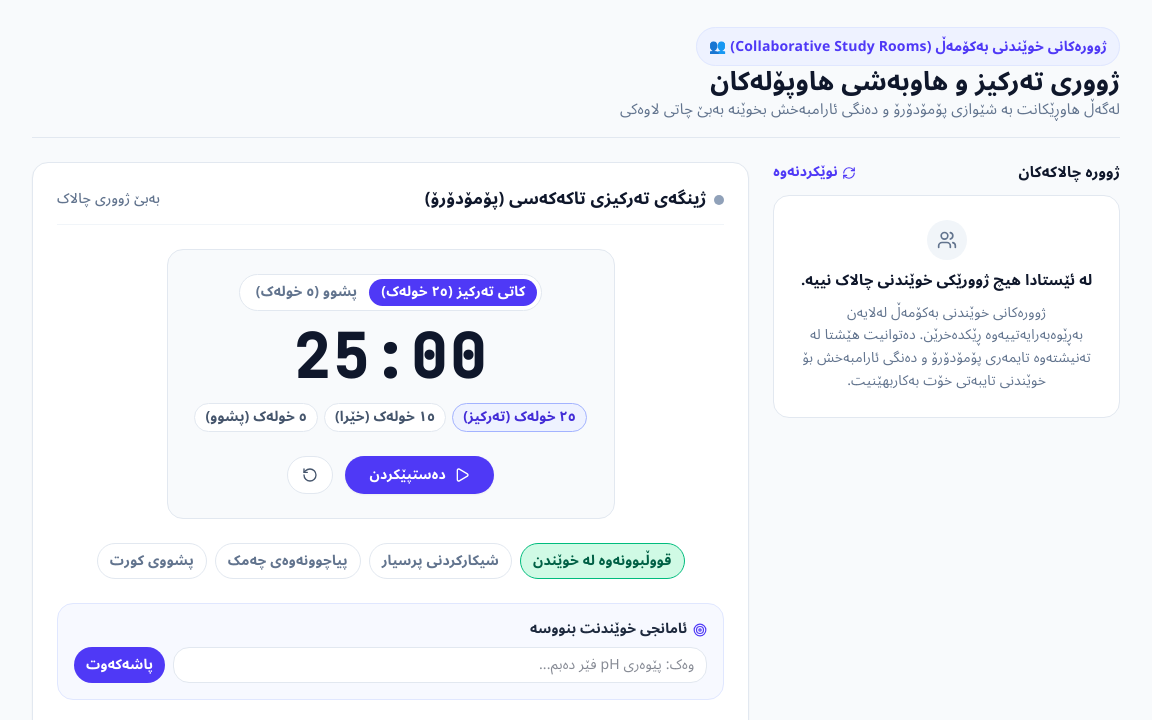
Test: ZANA Security & Data Integrity Remediation Suite › StudyRooms removes all fabricated rooms/peers and displays honest Kurdish empty & error/retry states
This screenshot has width=1152, height=720.
Expected: the text "لە ئێستادا هیچ ژوورێکی خوێندنی چالاک نییە." is shown, [798, 270, 1095, 292]
Click the button "نوێکردنەوە" at (814, 173), box [773, 163, 856, 182]
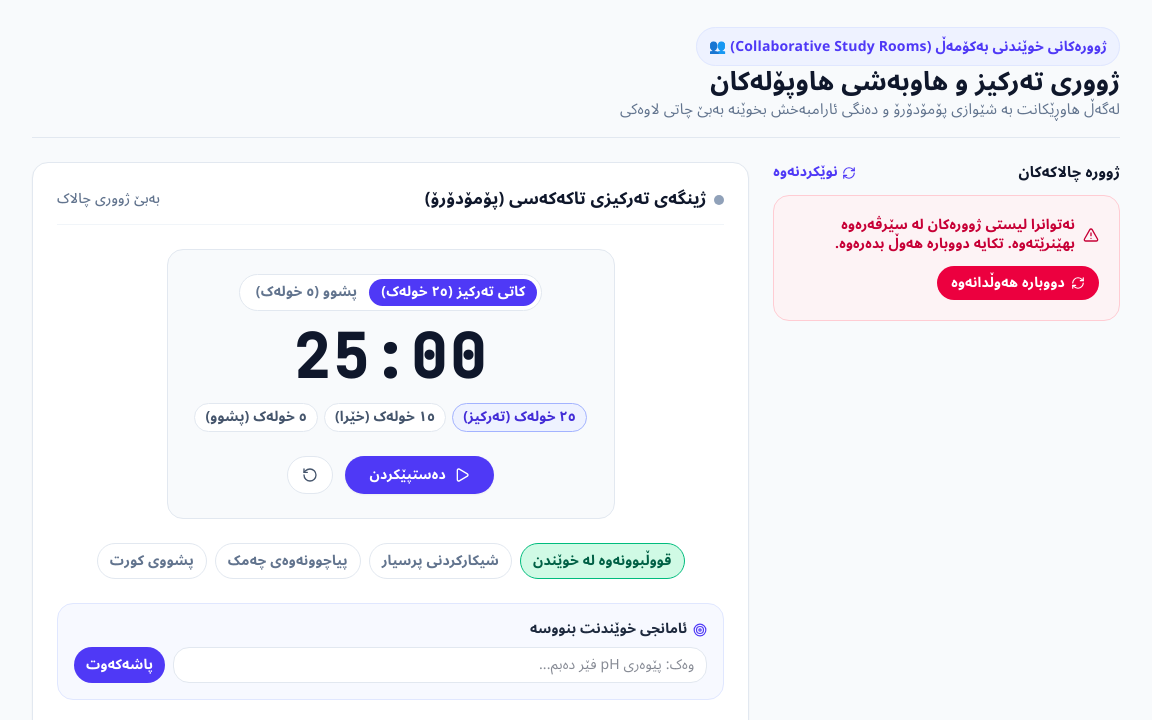
Expected: the message is shown, [773, 195, 1120, 321]
Expected: the button "دووبارە هەوڵدانەوە" is shown, [937, 266, 1099, 300]
